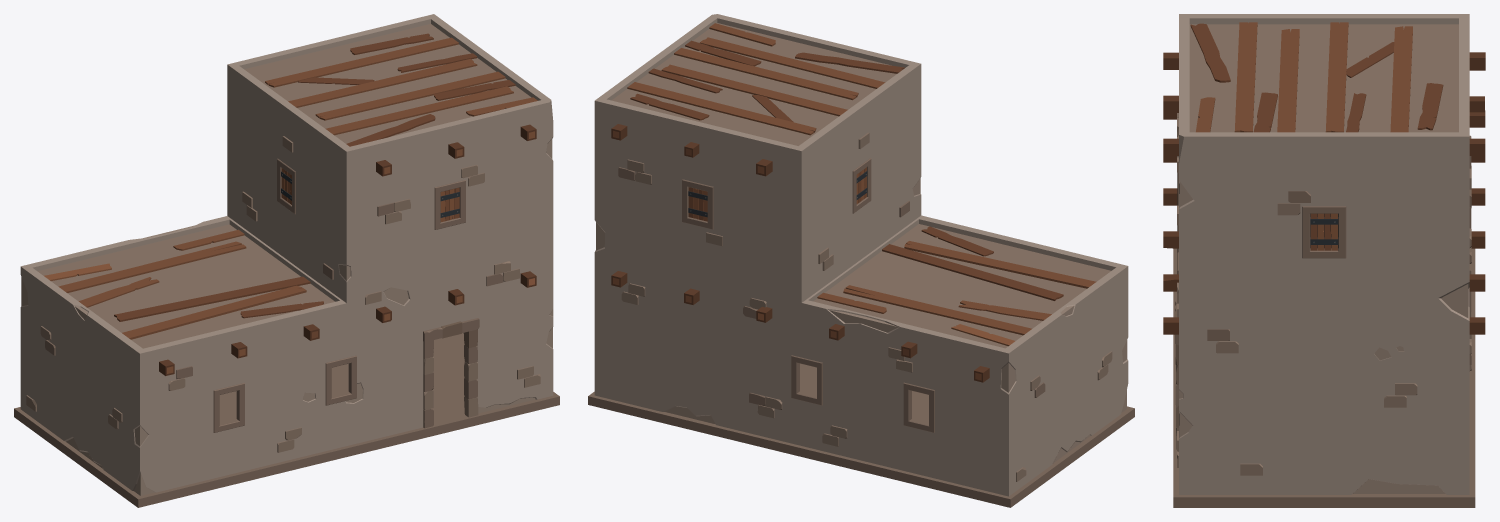
Rendered from House_04R.fbx.
3 renders of one model, left to right at view 1: azimuth 30°, elevation 25°; view 2: azimuth 150°, elevation 25°; view 3: azimuth 270°, elevation 25°, orthographic. The views are drawn at different scales.
Visible parts, largest first — view 1: House_04R; view 2: House_04R; view 3: House_04R.
Part boxes in pixels (x1,y1,x2,y2): House_04R: (14, 14, 559, 507); House_04R: (588, 14, 1134, 507); House_04R: (1163, 14, 1485, 507).
Bounding box in the file's own units: 1020 × 700 × 555.
